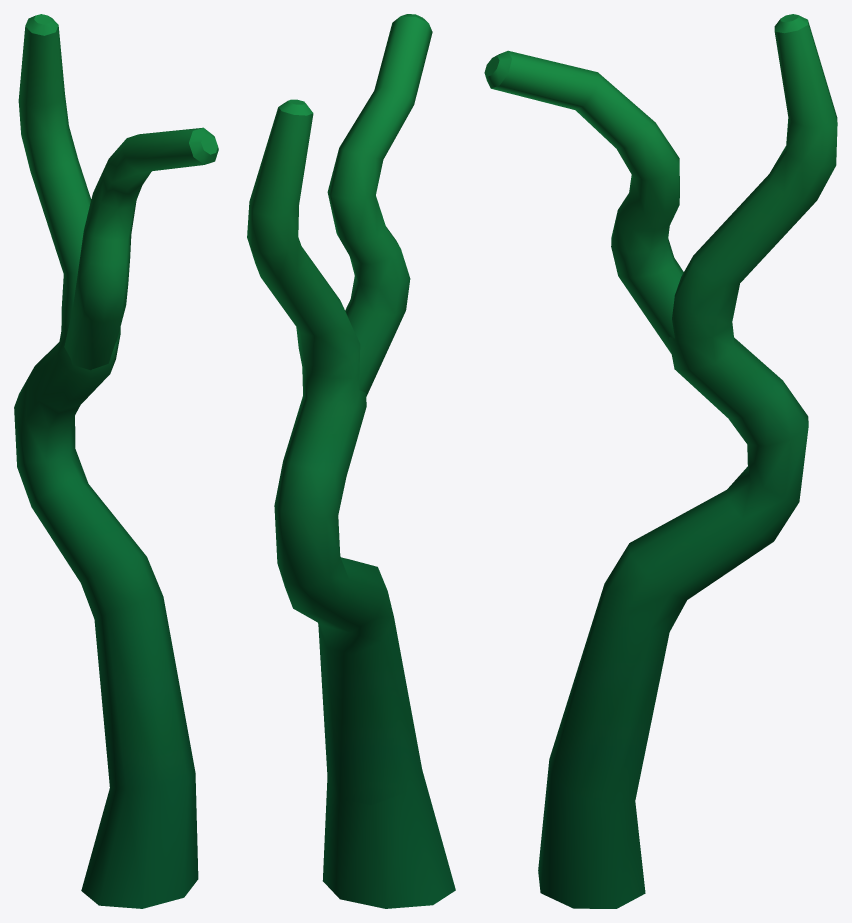
The model's file is Vine_1_2.obj.
The picture shows the model from 3 angles, left to right: view 1: azimuth 30°, elevation 25°; view 2: azimuth 150°, elevation 25°; view 3: azimuth 270°, elevation 25°; orthographic projection. The views are drawn at different scales.
Visible parts, largest first — view 1: Vine_1_2; view 2: Vine_1_2; view 3: Vine_1_2.
Boxes of the visible parts, <box> form: Vine_1_2: <box>14,14,218,908</box>; Vine_1_2: <box>247,14,455,908</box>; Vine_1_2: <box>484,14,837,908</box>.
Size of the model in its own units: 0.1133 by 0.8501 by 0.3151.
